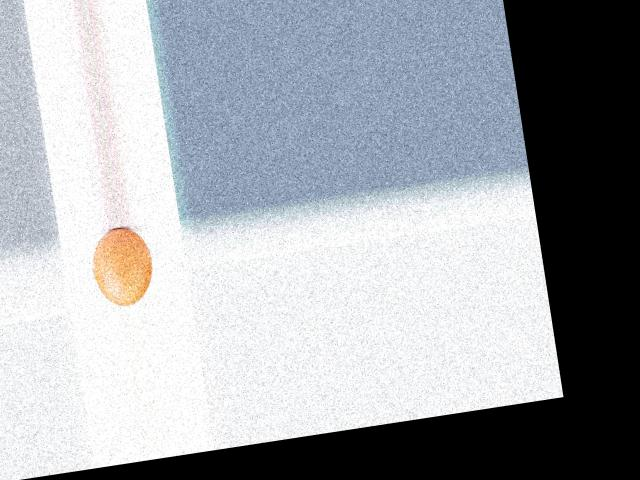egg: (88, 224, 158, 309)
